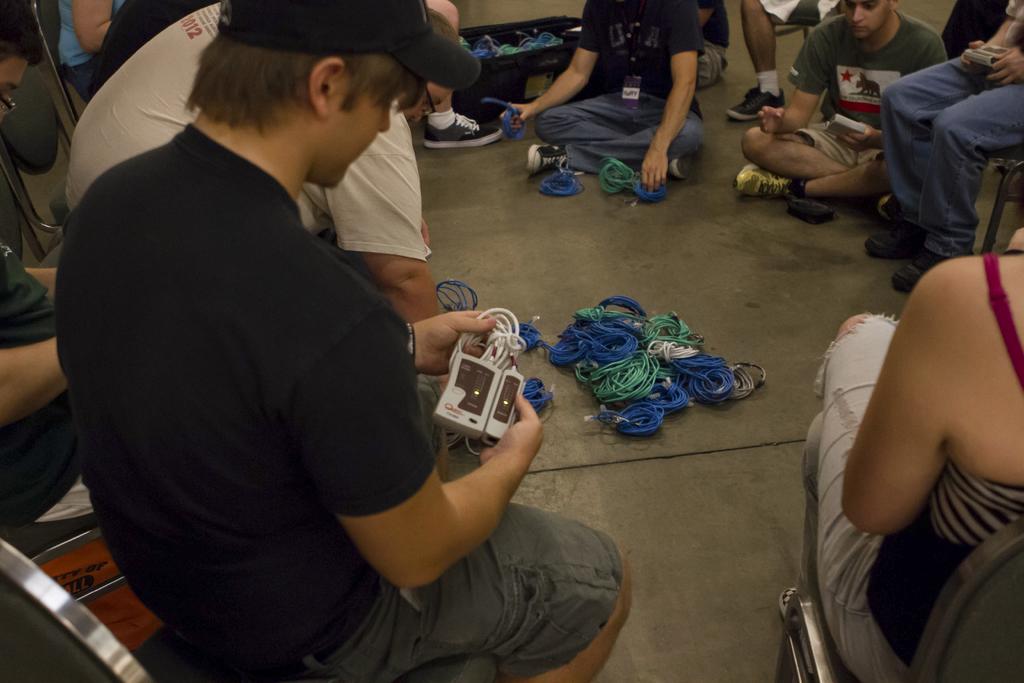Human_hand: (413, 304, 502, 377), (476, 391, 545, 484), (981, 43, 1023, 89), (833, 119, 879, 155), (639, 148, 669, 193), (956, 38, 990, 72), (497, 104, 534, 135), (755, 104, 787, 138)
